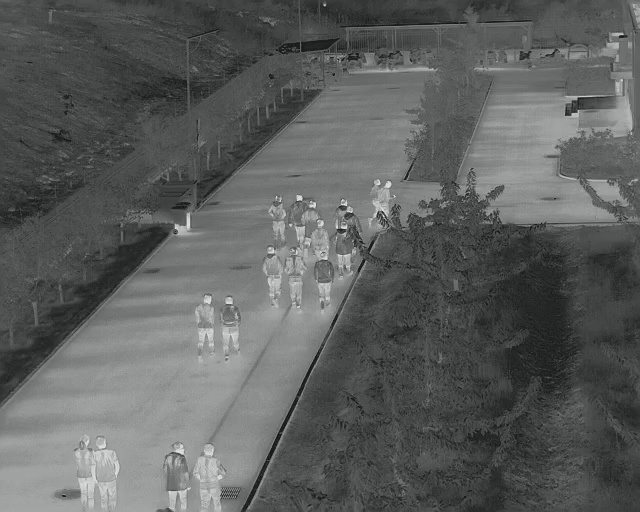person: (160, 443, 191, 511), (194, 442, 224, 512), (92, 436, 119, 512), (72, 433, 96, 512), (192, 292, 217, 360), (217, 292, 241, 362), (284, 246, 306, 312), (261, 245, 283, 307), (313, 250, 333, 312), (332, 221, 353, 279), (370, 177, 392, 227), (268, 193, 287, 244), (310, 218, 328, 259), (290, 193, 304, 245), (303, 197, 318, 239), (333, 197, 348, 224)
